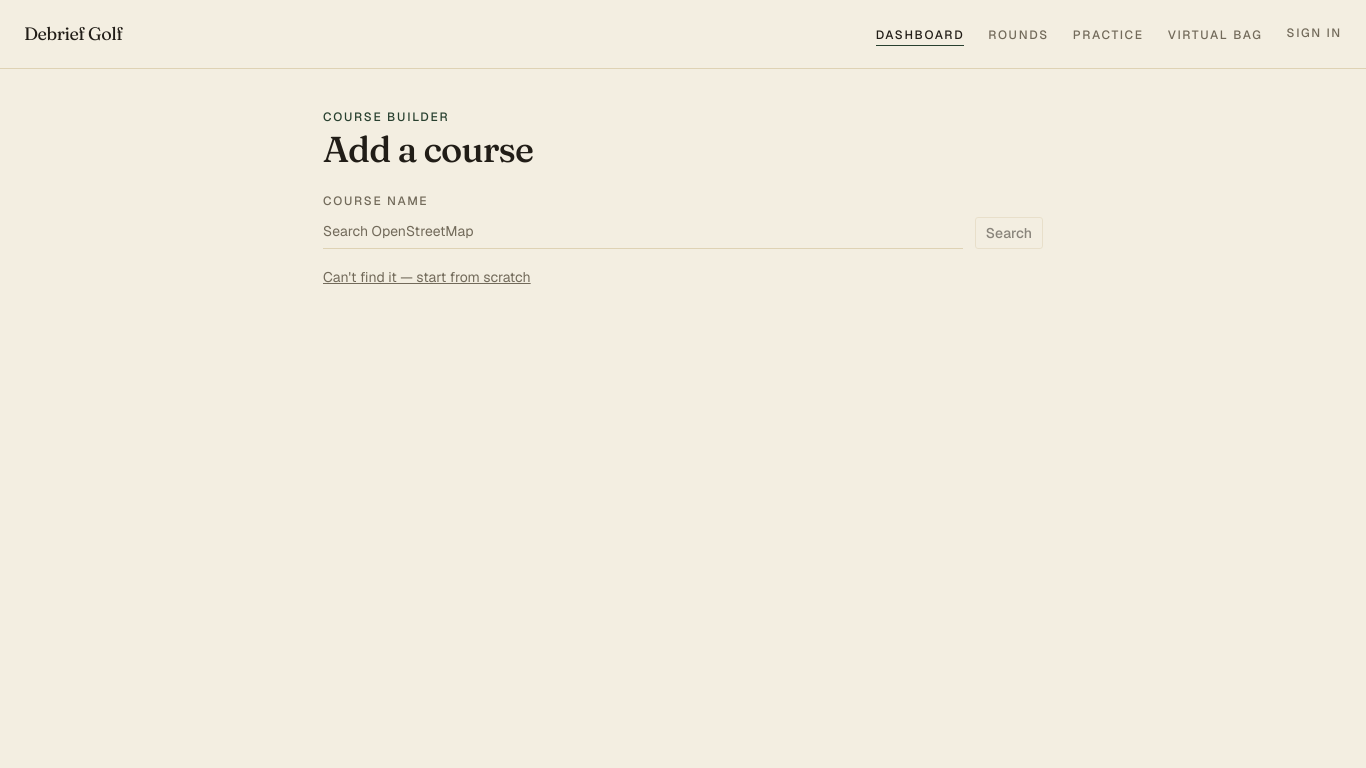
Test: NewCoursePage › prefills course fields and holes from a chosen OSM result
The image size is (1366, 768).
Type "Pinehurst" into the field with placeholder "Search OpenStreetMap". click: (643, 231)
box: [323,213,963,249]
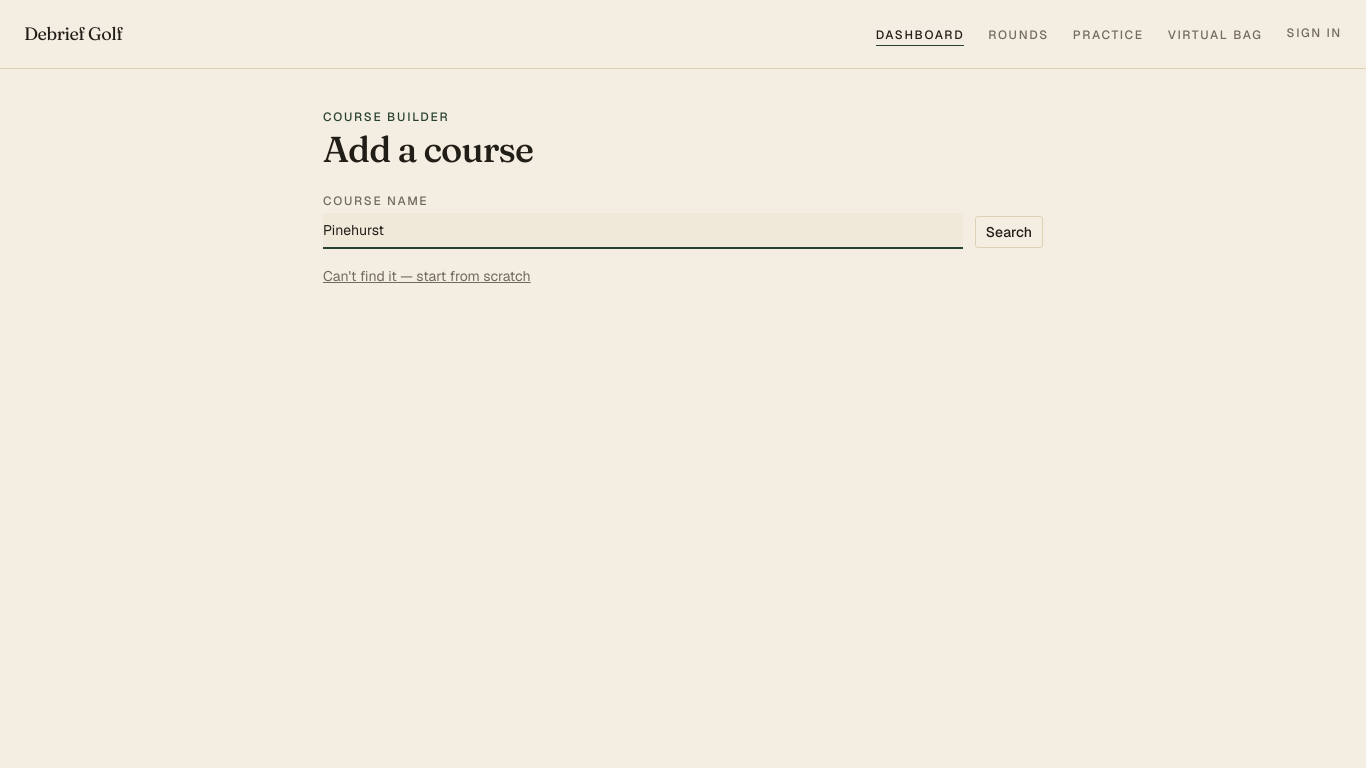
Click the button "Search". click: (1009, 232)
box: [975,216,1043,248]
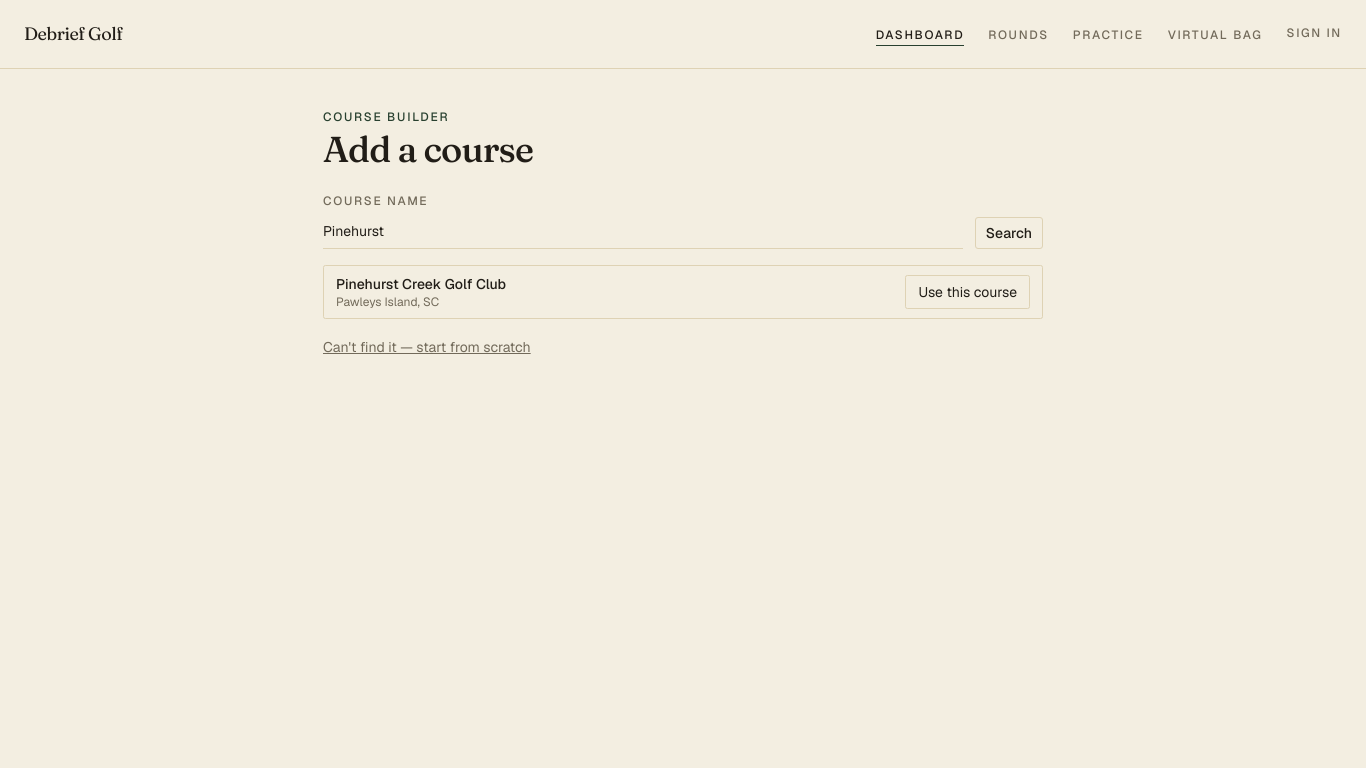
Click the button "Use this course". click: (968, 292)
box: [905,275,1030,309]
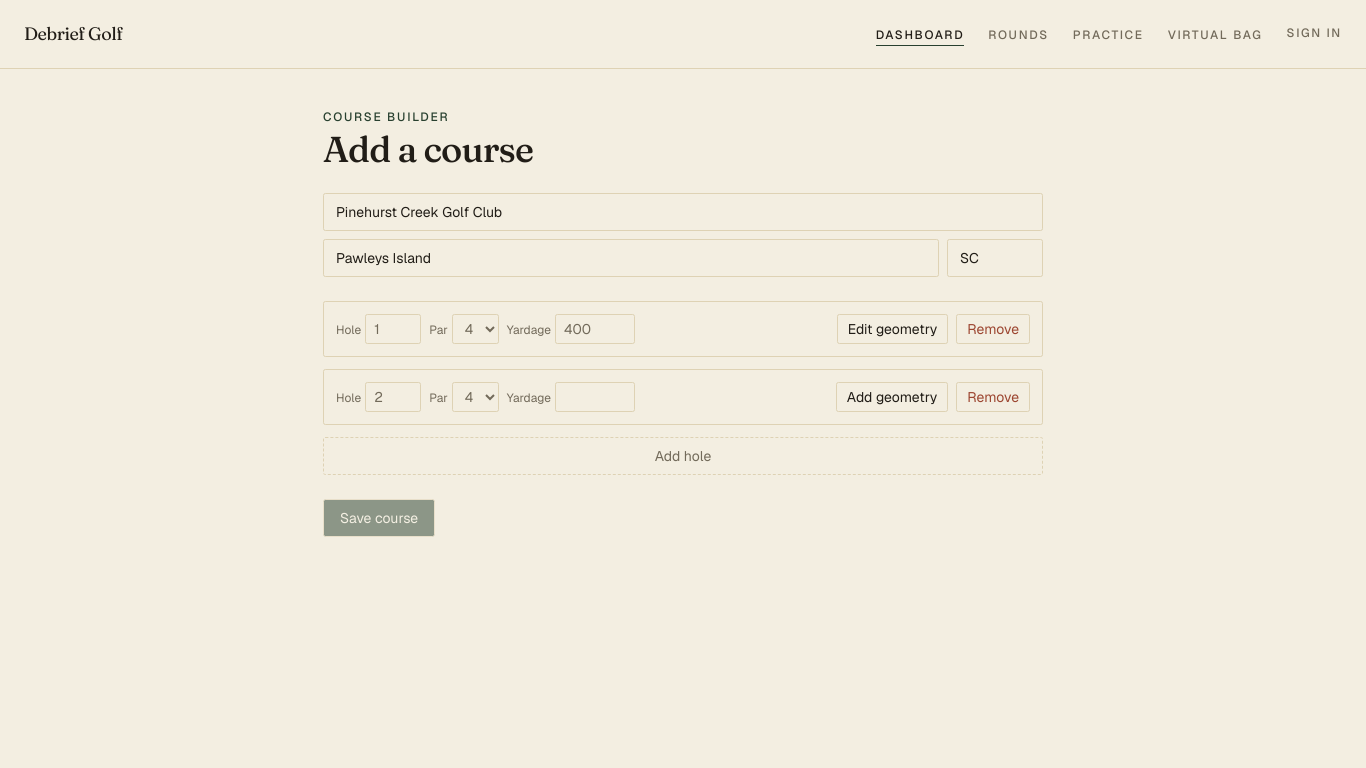
expect the field showing "Pinehurst Creek Golf Club" is shown: met, box [323,193,1043,231]
expect the button "Save course" is disabled: met, box [323,499,435,537]
